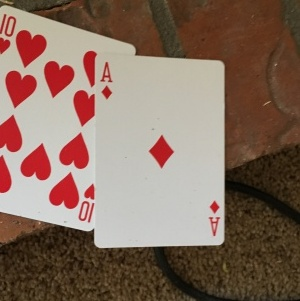card: (93, 52, 230, 249)
